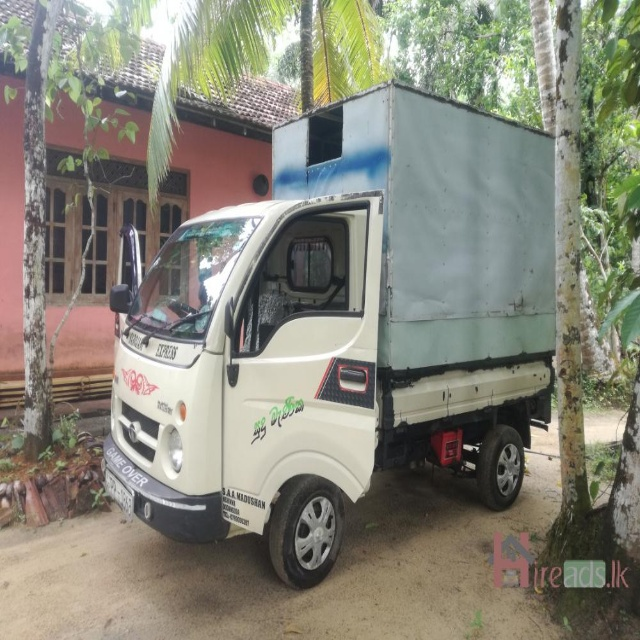Truck: (100, 78, 556, 588)
